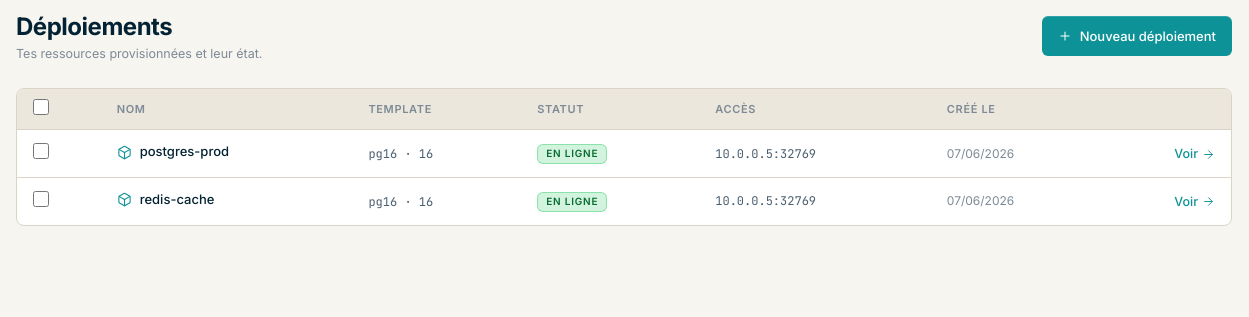
Test: DeploymentsPage (liste) › affiche un succès partiel quand un item échoue
Step 1. Click the checkbox named "Tout sélectionner" → (41, 107), box top-left (33, 99), bottom-right (49, 115)
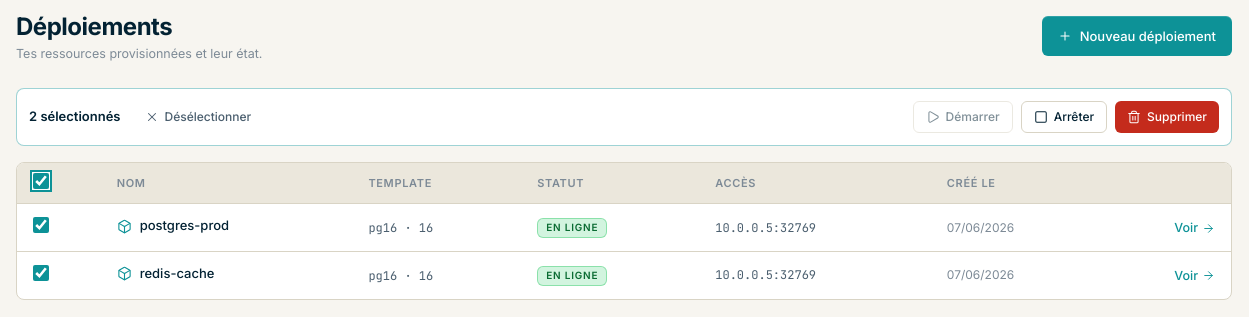
Step 2. Click the button "Arrêter" → (1064, 117), box top-left (1021, 101), bottom-right (1107, 133)
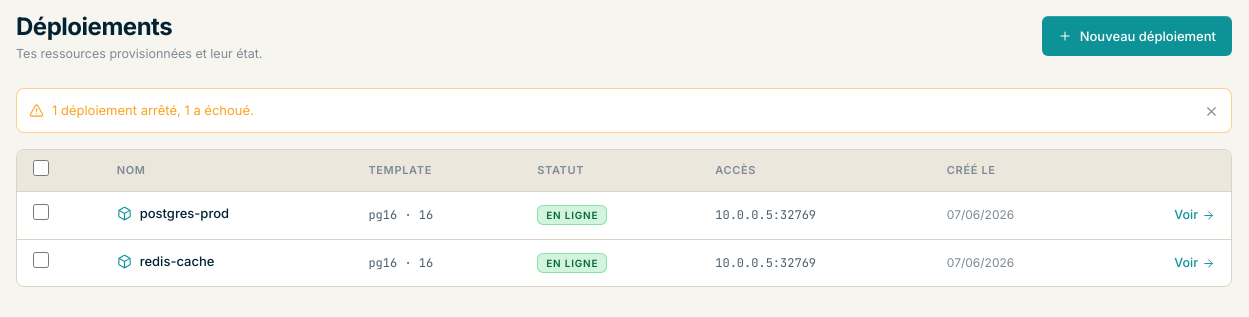
Result: the text "1 déploiement arrêté, 1 a échoué." is shown at top-left (29, 101), bottom-right (254, 120)
